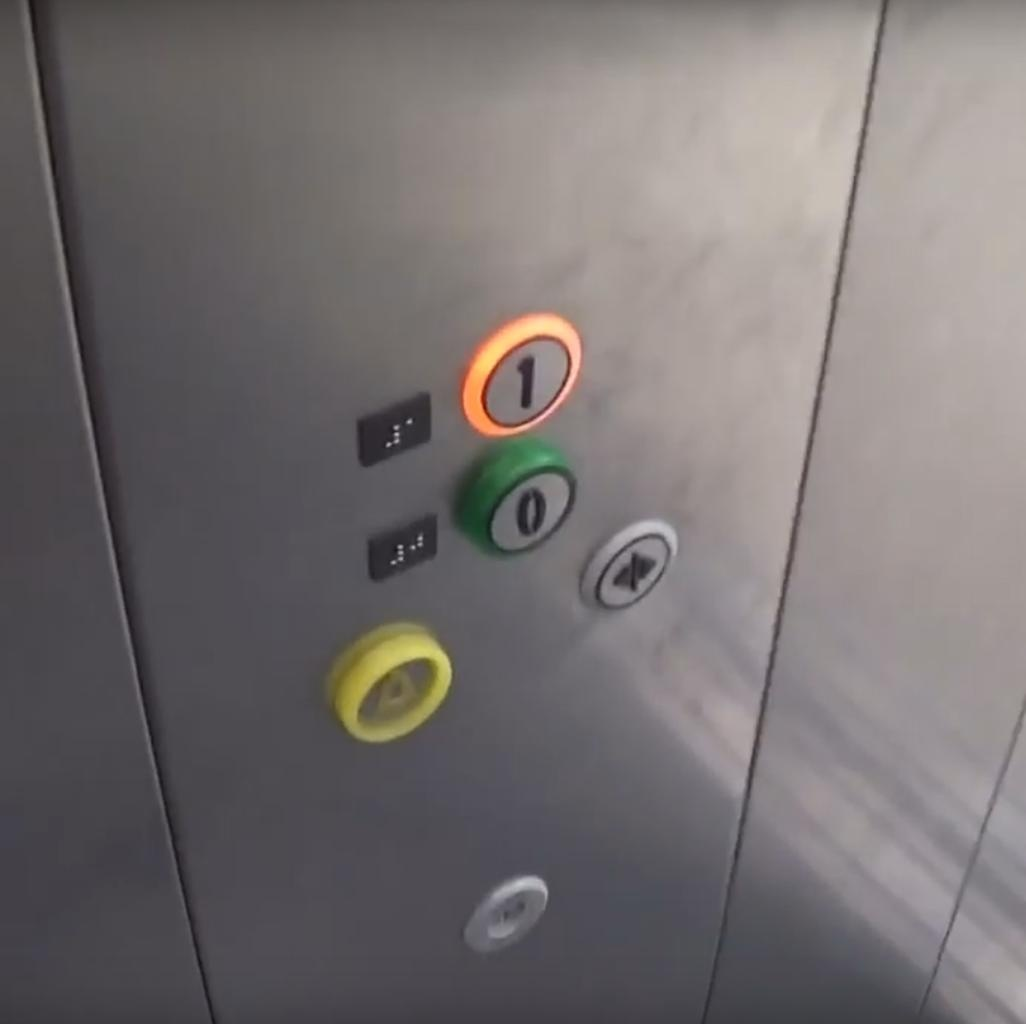0: (451, 439, 585, 556)
1: (452, 311, 596, 438)
alarm: (327, 625, 461, 742)
keyhole: (455, 870, 554, 955)
open: (579, 516, 687, 618)
